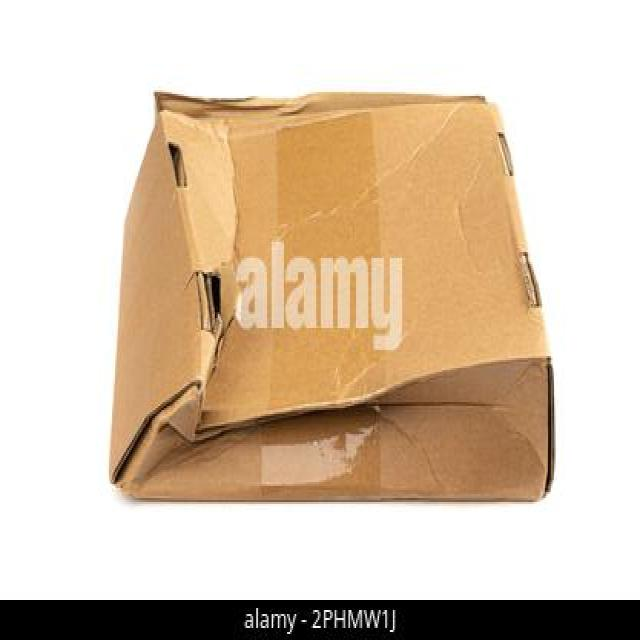Kardus kondisi rusak: (112, 85, 557, 505)
